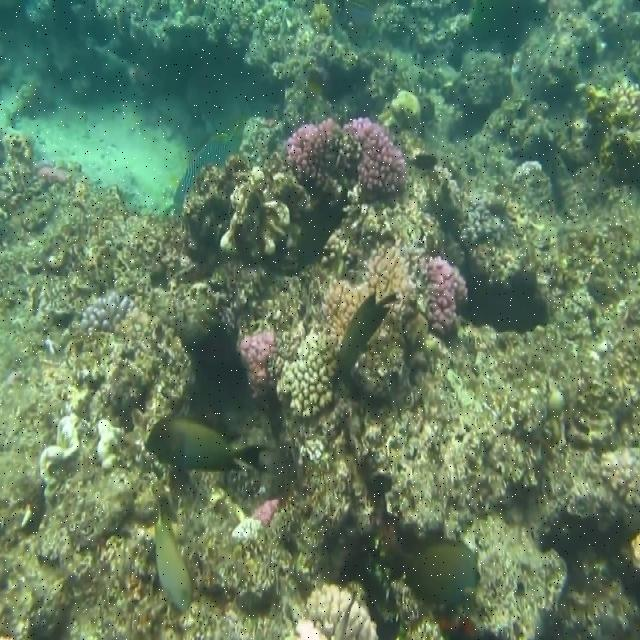fish: (333, 291, 399, 406), (144, 416, 277, 473), (173, 119, 238, 214), (389, 536, 479, 604), (155, 497, 192, 612)
reefs: (274, 244, 423, 419), (286, 116, 409, 192), (304, 580, 378, 638), (419, 254, 469, 334), (239, 329, 278, 395), (78, 293, 133, 335)
